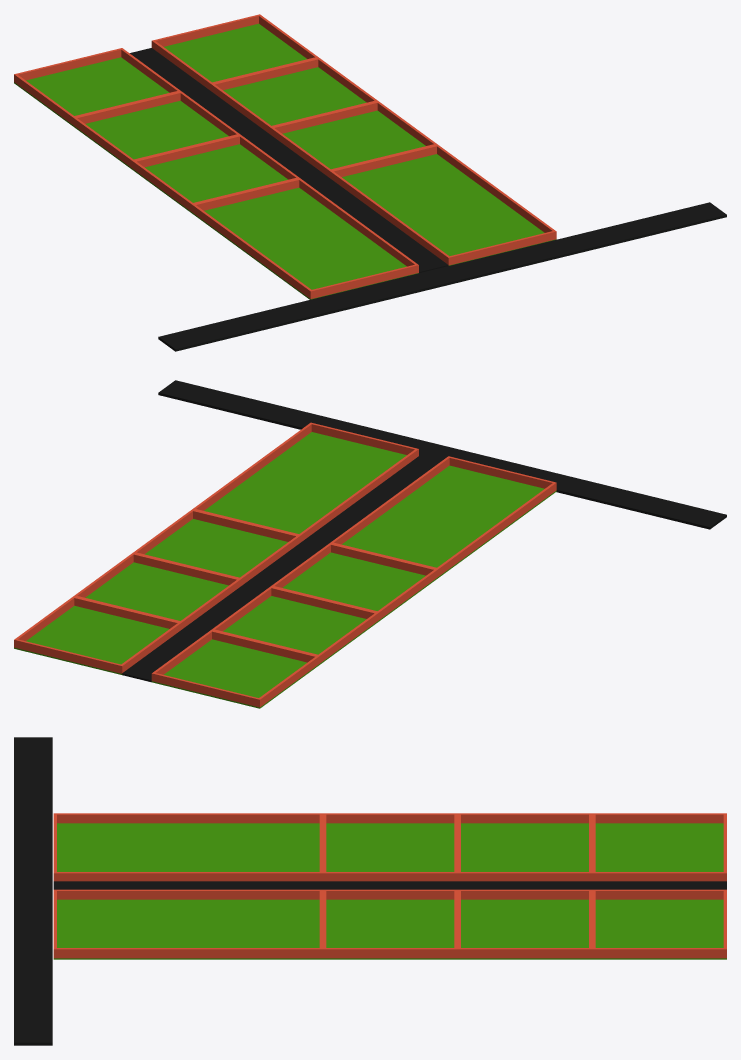
The model's file is SafaHousing.glb.
3 renders of one model, top to bottom at view 1: azimuth 30°, elevation 25°; view 2: azimuth 150°, elevation 25°; view 3: azimuth 270°, elevation 25°, orthographic. The views are drawn at different scales.
Visible parts, largest first — view 1: Ground, mainRoad, wall1, wall2, wall3, wall5, wall7, wall4, wall8, wall6; view 2: Ground, mainRoad, wall1, wall2, wall7, wall8, wall3, wall5, wall4, wall6; view 3: Ground, mainRoad, wall2, wall1, wall6, wall4, wall8, wall5, wall3, wall7.
Part boxes in pixels (bbox=[...]): Ground: bbox=[14, 23, 556, 299]; mainRoad: bbox=[158, 202, 726, 351]; wall1: bbox=[192, 178, 418, 298]; wall2: bbox=[329, 144, 556, 265]; wall3: bbox=[132, 135, 299, 211]; wall5: bbox=[73, 91, 240, 168]; wall7: bbox=[14, 48, 180, 124]; wall4: bbox=[270, 101, 437, 177]; wall8: bbox=[151, 14, 318, 90]; wall6: bbox=[211, 58, 378, 133]; Ground: bbox=[14, 432, 556, 708]; mainRoad: bbox=[158, 380, 726, 529]; wall1: bbox=[330, 456, 556, 576]; wall2: bbox=[192, 422, 418, 542]; wall7: bbox=[151, 630, 319, 707]; wall8: bbox=[14, 596, 181, 673]; wall3: bbox=[270, 543, 437, 620]; wall5: bbox=[211, 586, 378, 663]; wall4: bbox=[133, 509, 300, 585]; wall6: bbox=[74, 553, 240, 629]; Ground: bbox=[53, 823, 726, 959]; mainRoad: bbox=[14, 737, 52, 1045]; wall2: bbox=[53, 889, 322, 958]; wall1: bbox=[53, 813, 322, 881]; wall6: bbox=[457, 889, 592, 958]; wall4: bbox=[323, 889, 457, 958]; wall8: bbox=[592, 889, 726, 958]; wall5: bbox=[457, 813, 592, 881]; wall3: bbox=[323, 813, 457, 881]; wall7: bbox=[592, 813, 726, 881].
Bounding box in the file's own units: 68.35 × 1.2 × 67.46.
